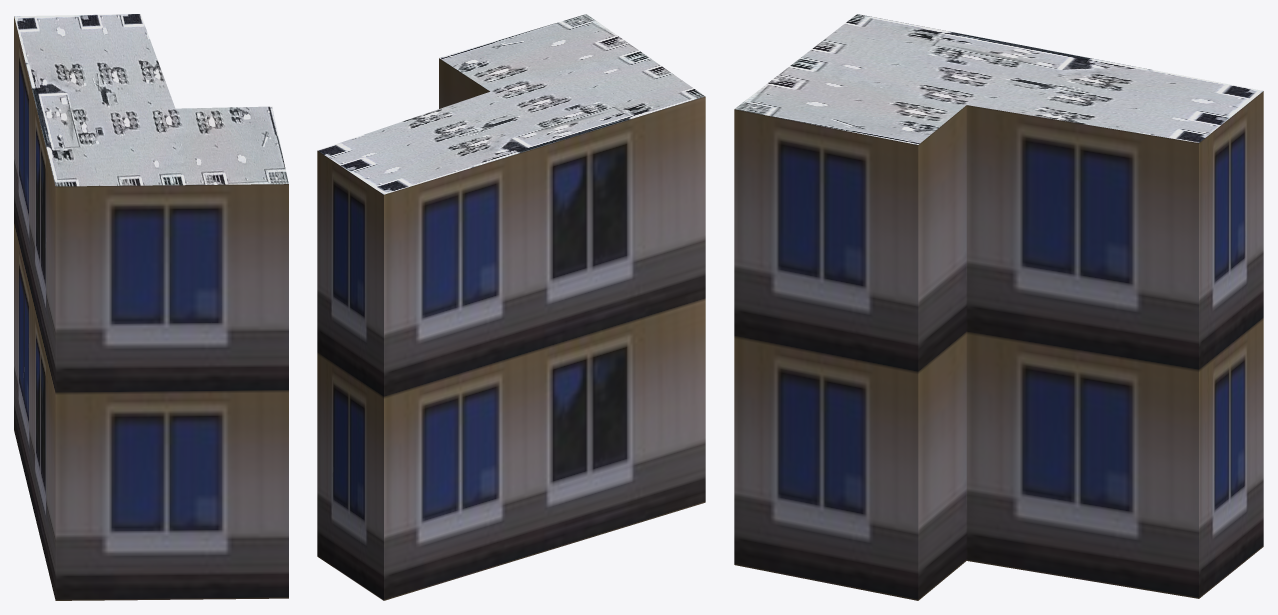
Rendered from ResTex__575.fbx.
3 renders of one model, left to right at view 1: azimuth 30°, elevation 25°; view 2: azimuth 150°, elevation 25°; view 3: azimuth 270°, elevation 25°, orthographic. The views are drawn at different scales.
Visible parts, largest first — view 1: CityEngineMaterial_5_m, CityEngineMaterial_4_m; view 2: CityEngineMaterial_5_m, CityEngineMaterial_4_m; view 3: CityEngineMaterial_5_m, CityEngineMaterial_4_m.
Part boxes in pixels (x1,y1,x2,y2): CityEngineMaterial_5_m: (14, 16, 288, 600); CityEngineMaterial_4_m: (14, 14, 288, 186); CityEngineMaterial_5_m: (317, 58, 705, 600); CityEngineMaterial_4_m: (317, 14, 705, 194); CityEngineMaterial_5_m: (734, 91, 1263, 600); CityEngineMaterial_4_m: (734, 14, 1262, 144).
Size of the model in its own units: 3.7 by 6 by 6.32.
Materials: 2 (2 with a texture image).
